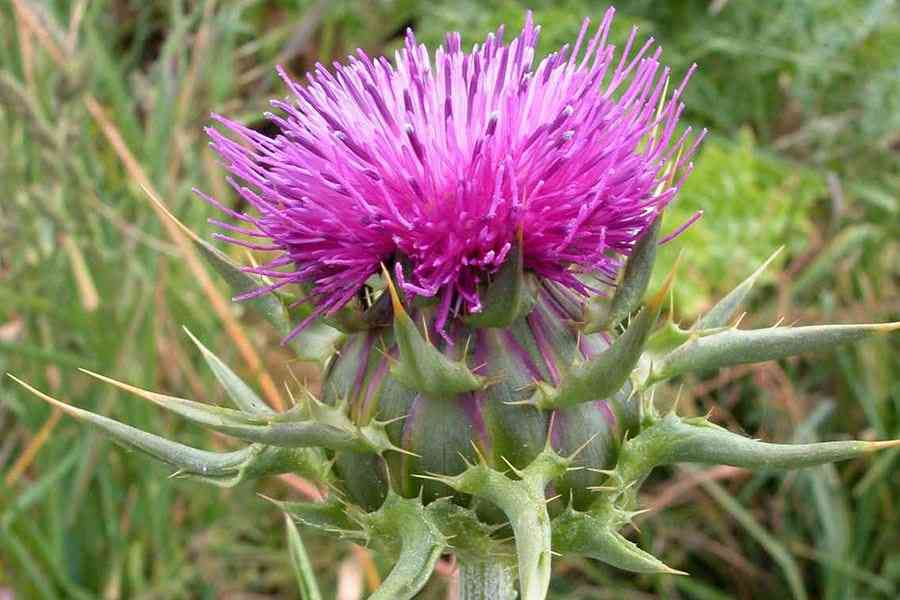thistle: (119, 36, 848, 574)
